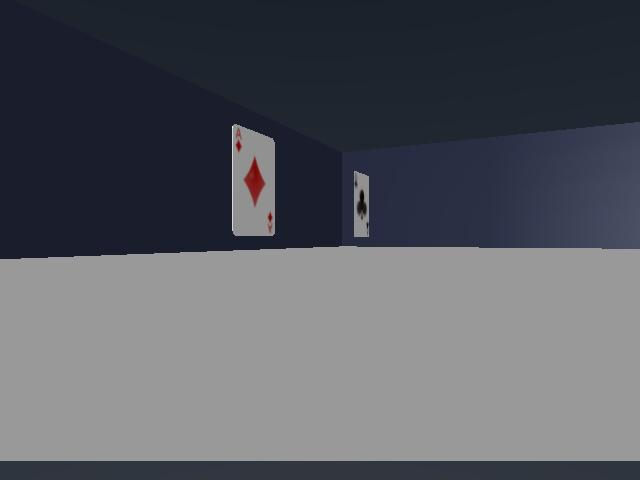club: (353, 172, 369, 236)
diamond: (232, 125, 275, 235)
